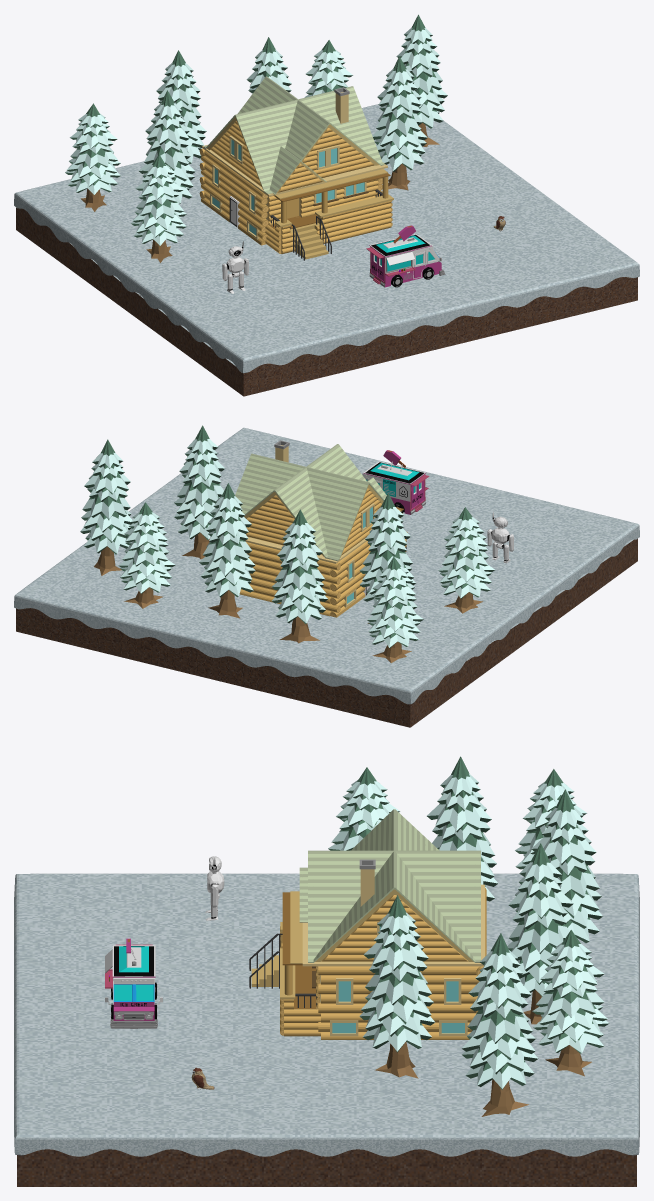
The picture shows the model from 3 angles, top to bottom: view 1: azimuth 30°, elevation 25°; view 2: azimuth 150°, elevation 25°; view 3: azimuth 270°, elevation 25°; orthographic projection. The views are drawn at different scales.
Visible parts, largest first — view 1: Cube.003, Cube.1516, VEHICLES_ICE_CREAM_TRUCK, OBJRANDOM_PLATZEEBOT; view 2: Cube.003, Cube.1516, VEHICLES_ICE_CREAM_TRUCK, OBJRANDOM_PLATZEEBOT; view 3: Cube.003, Cube.1516, VEHICLES_ICE_CREAM_TRUCK, OBJRANDOM_PLATZEEBOT.
Boxes of the visible parts, x1,y1,x2,y2 form: Cube.003: (14, 14, 639, 396); Cube.1516: (199, 76, 393, 260); VEHICLES_ICE_CREAM_TRUCK: (366, 225, 445, 287); OBJRANDOM_PLATZEEBOT: (222, 241, 248, 293); Cube.003: (14, 425, 639, 727); Cube.1516: (235, 440, 407, 617); VEHICLES_ICE_CREAM_TRUCK: (362, 450, 429, 514); OBJRANDOM_PLATZEEBOT: (487, 512, 513, 563); Cube.003: (14, 756, 639, 1186); Cube.1516: (249, 809, 486, 1039); VEHICLES_ICE_CREAM_TRUCK: (105, 938, 162, 1028); OBJRANDOM_PLATZEEBOT: (205, 856, 224, 920).
Size of the model in its own units: 4040 by 1715 by 4040.
Materials: 43 (5 with a texture image).
